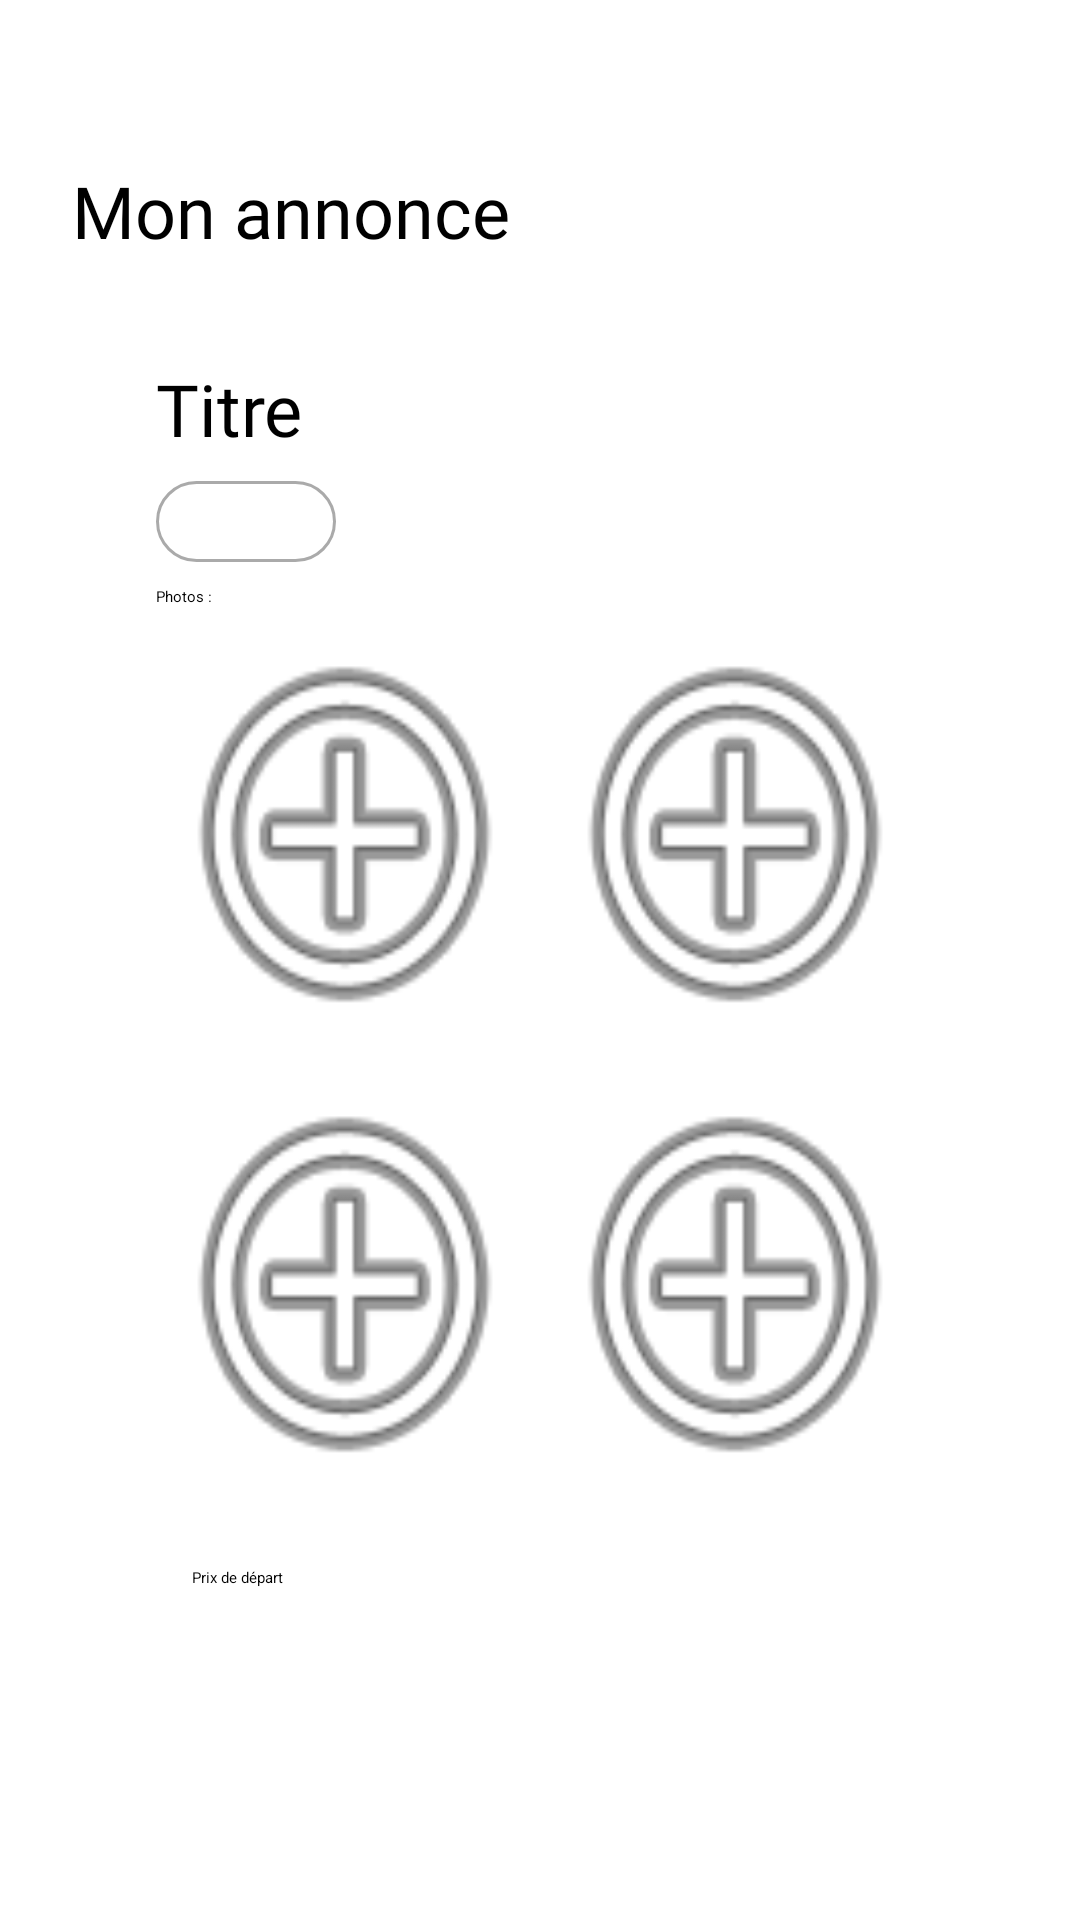

Icons on this 1080px x 1920px Android screen, each with its box as (x1, y1, x2, y2):
add: (200, 667, 490, 1002), (590, 667, 880, 1002), (200, 1117, 490, 1452), (590, 1117, 880, 1452)
